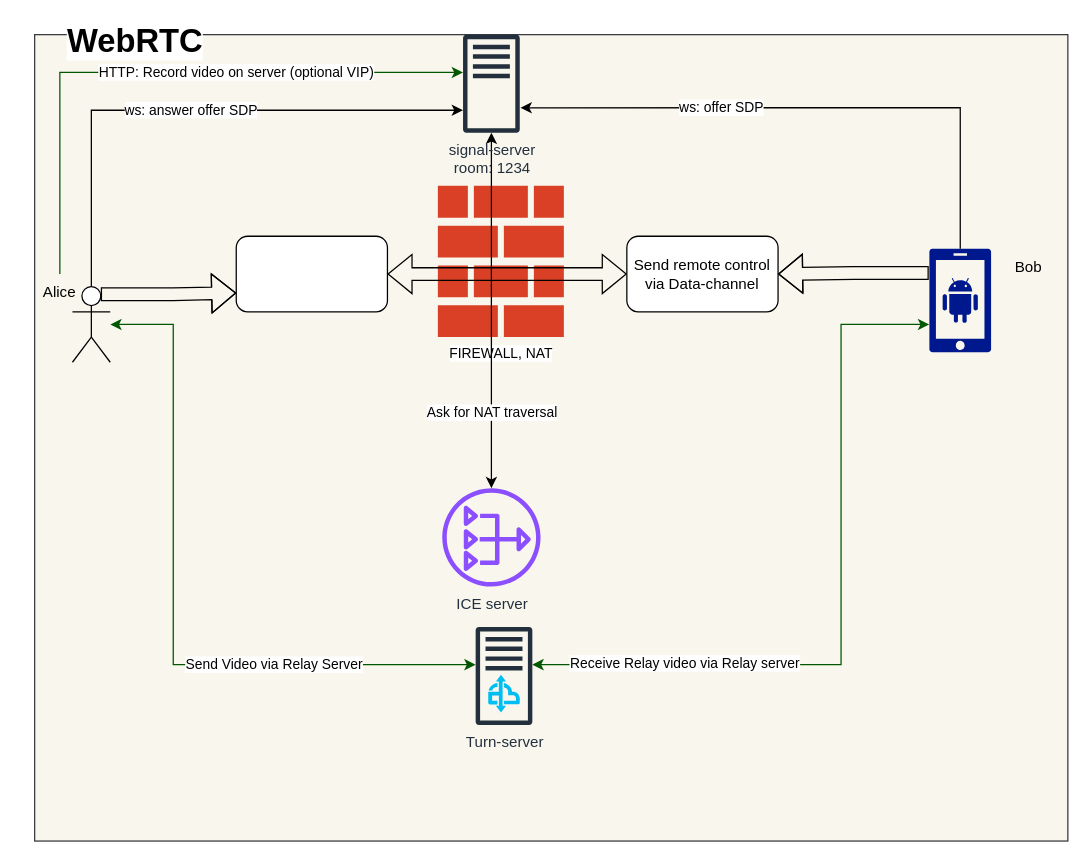
The diagram is 1090 pixels wide and 863 high, and some of its shapes have lost their labels. Each missing label, with the centre of its shape:
"Android-client-remote-control" belongs at pixel 960 300.
"go-client-raspi5" belongs at pixel 90 323.
"Send Video streaming" belongs at pixel 311 273.
